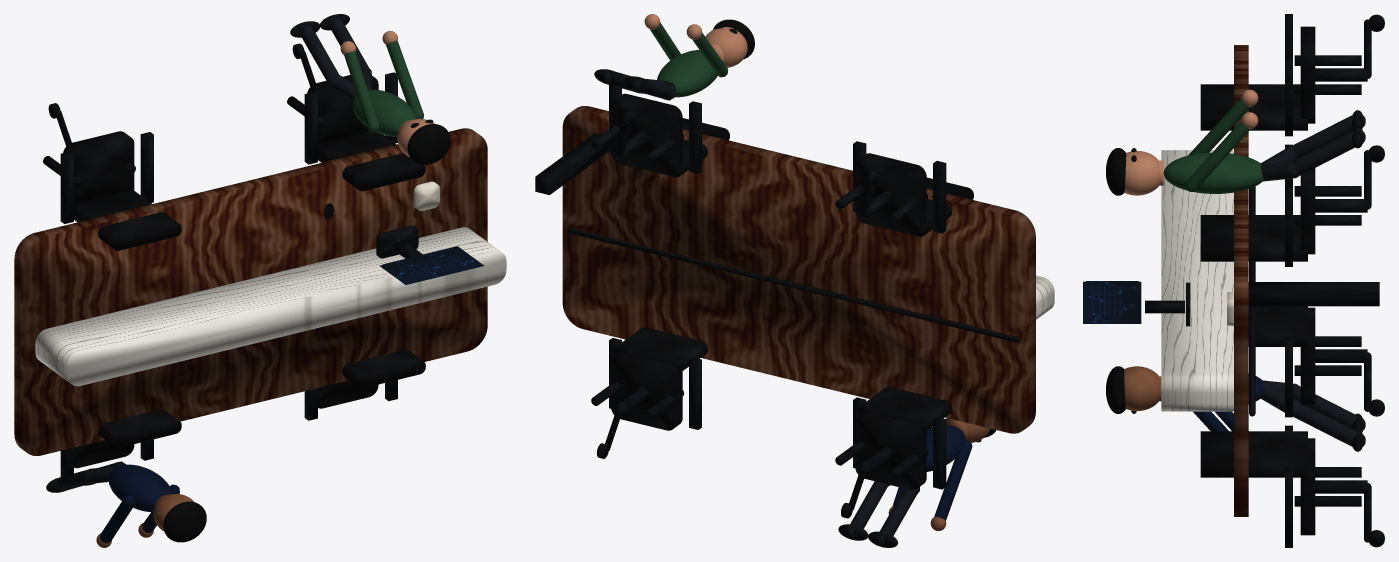
Rendered from HERO_WORKSTATION_CLUSTER_V4_001.glb.
3 renders of one model, left to right at view 1: azimuth 30°, elevation 25°; view 2: azimuth 150°, elevation 25°; view 3: azimuth 270°, elevation 25°, orthographic. The views are drawn at different scales.
Visible parts, largest first — view 1: desk_cluster_top, central_planter, taskchair_2_seat, taskchair_2_back, taskchair_3_back, taskchair_3_seat, taskchair_1_back, taskchair_0_back, worker_male_torso, screen_ui, worker_female_torso, worker_male_hair (+13 smaller); view 2: desk_cluster_top, taskchair_1_seat, taskchair_0_seat, taskchair_3_seat, taskchair_2_seat, cable_tray, taskchair_1_back, taskchair_0_back, desk_leg, worker_female_torso, worker_female_head, worker_male_arm_l (+10 smaller); view 3: central_planter, desk_cluster_top, taskchair_1_back, taskchair_3_back, desk_leg, taskchair_2_back, worker_female_torso, taskchair_0_back, screen_ui, taskchair_2_seat, worker_male_head, worker_female_head (+37 smaller).
Part boxes in pixels (left/top/right/bottom): desk_cluster_top: left=14, top=128, right=487, bottom=455; central_planter: left=35, top=227, right=506, bottom=386; taskchair_2_seat: left=63, top=131, right=134, bottom=203; taskchair_2_back: left=74, top=190, right=181, bottom=250; taskchair_3_back: left=318, top=131, right=425, bottom=191; taskchair_3_seat: left=307, top=75, right=378, bottom=143; taskchair_1_back: left=342, top=349, right=425, bottom=388; taskchair_0_back: left=98, top=409, right=181, bottom=447; worker_male_torso: left=108, top=464, right=172, bottom=512; screen_ui: left=383, top=246, right=480, bottom=281; worker_female_torso: left=352, top=89, right=416, bottom=136; worker_male_hair: left=163, top=501, right=206, bottom=542; desk_cluster_top: left=562, top=106, right=1035, bottom=433; taskchair_1_seat: left=611, top=352, right=682, bottom=430; taskchair_0_seat: left=855, top=412, right=926, bottom=490; taskchair_3_seat: left=611, top=93, right=682, bottom=174; taskchair_2_seat: left=855, top=153, right=926, bottom=233; cable_tray: left=569, top=228, right=1019, bottom=342; taskchair_1_back: left=612, top=327, right=707, bottom=373; taskchair_0_back: left=856, top=386, right=951, bottom=432; desk_leg: left=535, top=133, right=608, bottom=194; worker_female_torso: left=657, top=50, right=717, bottom=97; worker_female_head: left=705, top=27, right=747, bottom=67; worker_male_arm_l: left=934, top=440, right=972, bottom=520; central_planter: left=1161, top=150, right=1233, bottom=411; desk_cluster_top: left=1234, top=45, right=1248, bottom=516; taskchair_1_back: left=1200, top=431, right=1307, bottom=477; taskchair_3_back: left=1200, top=215, right=1307, bottom=261; desk_leg: left=1248, top=282, right=1379, bottom=306; taskchair_2_back: left=1200, top=84, right=1307, bottom=130; worker_female_torso: left=1163, top=152, right=1263, bottom=193; taskchair_0_back: left=1248, top=306, right=1307, bottom=346; screen_ui: left=1086, top=281, right=1138, bottom=320; taskchair_2_seat: left=1300, top=26, right=1315, bottom=123; worker_male_head: left=1124, top=366, right=1160, bottom=410; worker_female_head: left=1124, top=151, right=1160, bottom=195.
Bounding box in the file's own units: 3.25 × 2.97 × 1.66.
15 materials, 15 textured.
